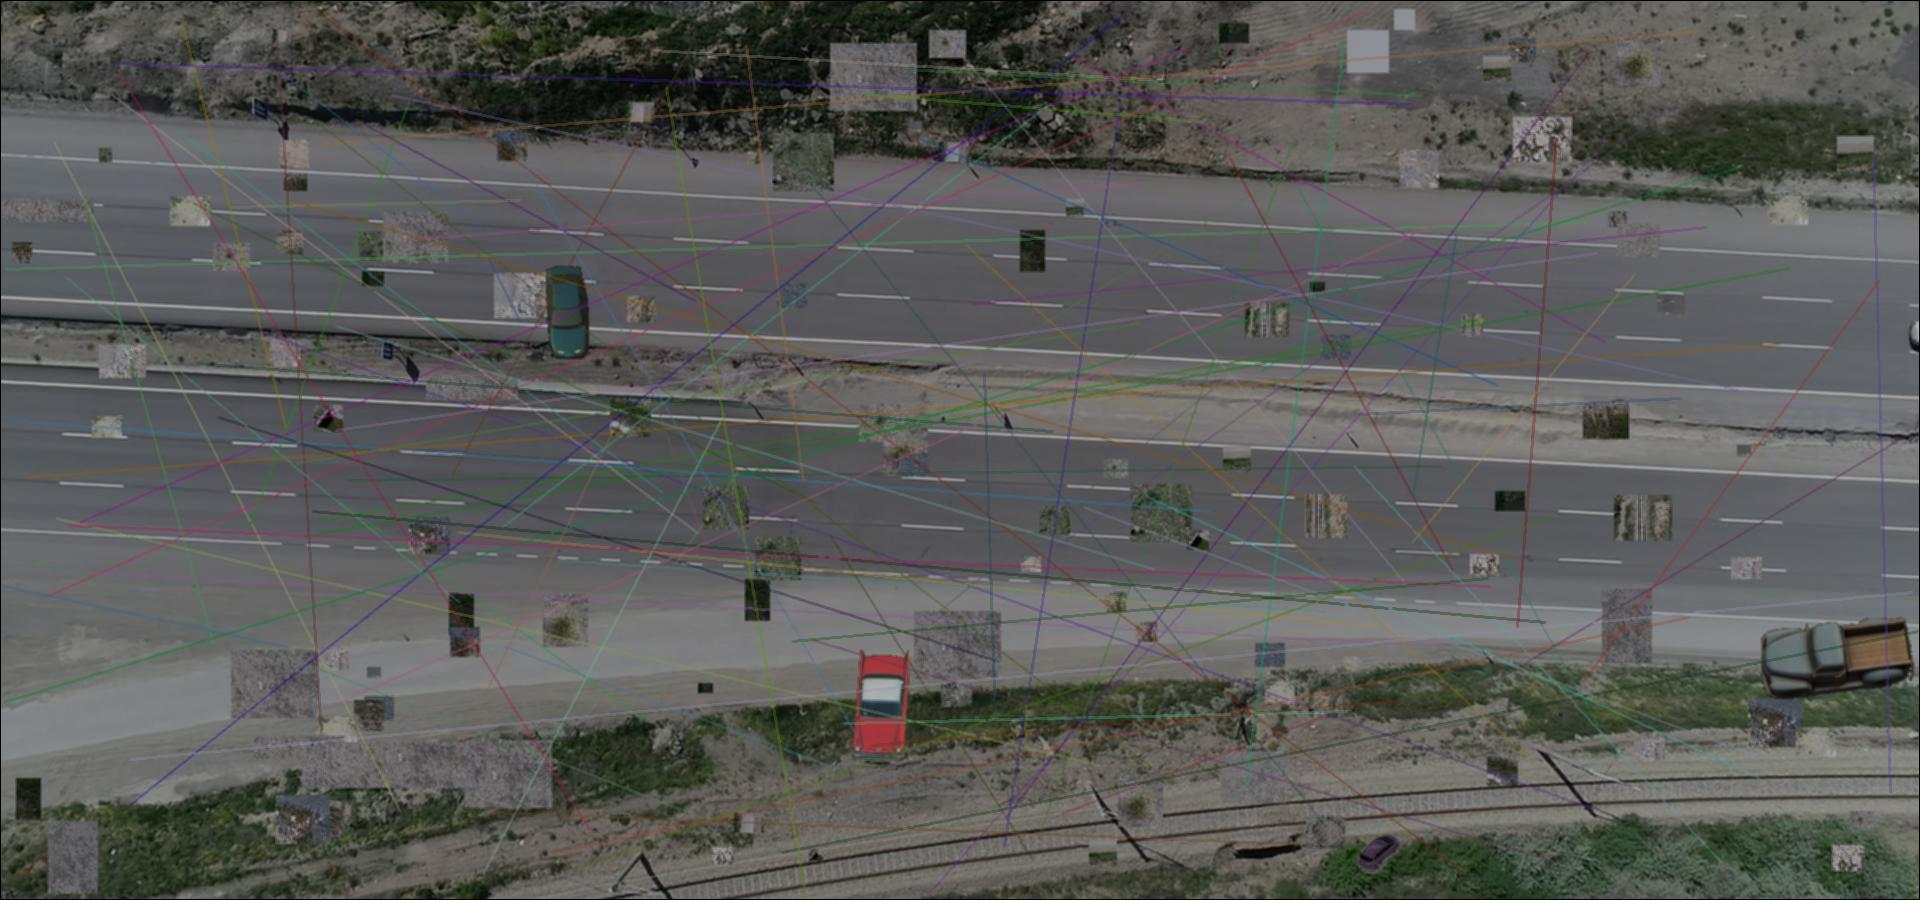arac: (1761, 615, 1918, 703), (850, 648, 909, 767), (545, 266, 589, 359), (1358, 831, 1401, 876)
